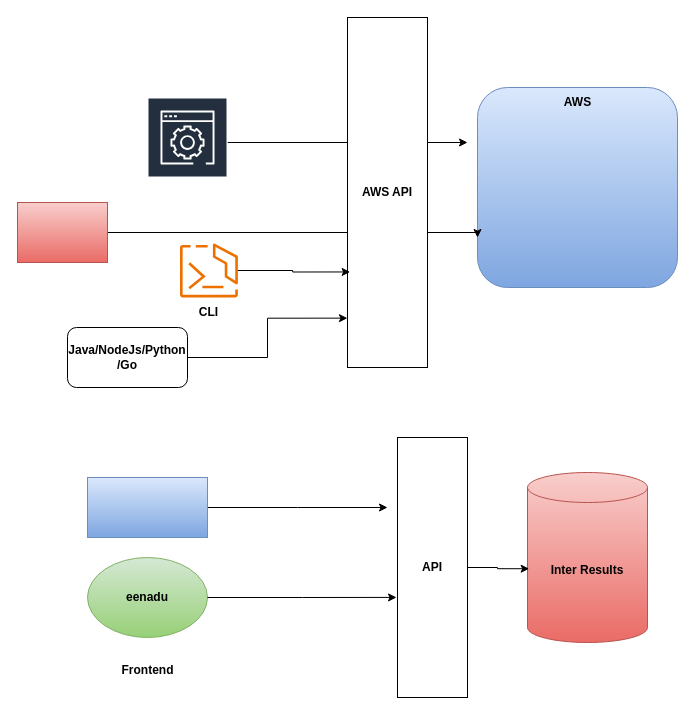
Image size: 695x715. Some labels were removed from this diagram. The shapes that lost their labels are listed below. From the top down, each one's centre as x and y in pixels, then its label:
At (187,142): "AWS Console".
At (62,232): "Terraform".
At (147,507): "AP Website".
